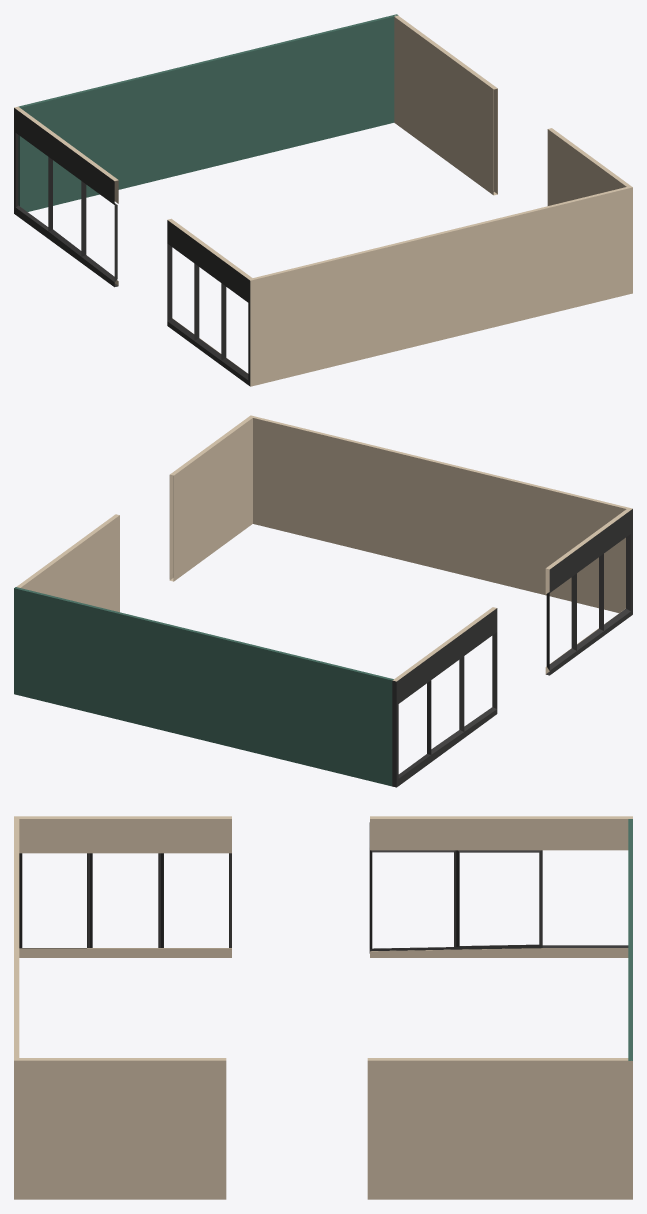
Rendered from Updated_Diwar.fbx.
3 views of the same model, one above another, from view 1: azimuth 30°, elevation 25°; view 2: azimuth 150°, elevation 25°; view 3: azimuth 270°, elevation 25° (orthographic). The views are drawn at different scales.
Parts seen in each view (by area): view 1: Cube.026, Cube.009, Cube.021, Cube.027; view 2: Cube.009, Cube.026, Cube.021, Cube.027; view 3: Cube.021, Cube.027, Cube.026, Cube.009.
Boxes of the visible parts, x1=… form: Cube.026: x1=253, y1=186, x2=632, y2=385; Cube.009: x1=18, y1=14, x2=398, y2=211; Cube.021: x1=394, y1=15, x2=630, y2=205; Cube.027: x1=14, y1=106, x2=254, y2=386; Cube.009: x1=14, y1=587, x2=393, y2=786; Cube.026: x1=249, y1=415, x2=628, y2=612; Cube.021: x1=16, y1=417, x2=252, y2=612; Cube.027: x1=392, y1=507, x2=632, y2=787; Cube.021: x1=19, y1=1058, x2=628, y2=1199; Cube.027: x1=14, y1=816, x2=632, y2=957; Cube.026: x1=14, y1=819, x2=19, y2=1199; Cube.009: x1=628, y1=819, x2=632, y2=1199.
Size of the model in its own units: 1916 by 507 by 2049.
